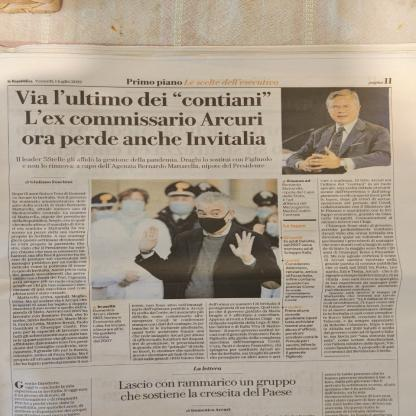immagine: (87, 176, 281, 300), (280, 86, 392, 179)
testo_col: (6, 188, 94, 372), (317, 178, 399, 362), (128, 302, 206, 364), (207, 301, 284, 363)
titolo: (6, 86, 278, 152)
